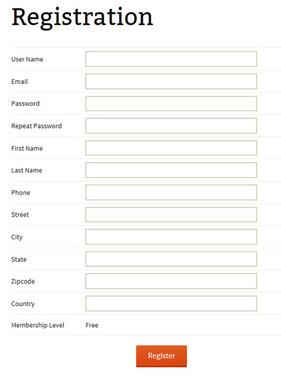button: (133, 344, 190, 368)
field: (84, 271, 258, 290), (83, 228, 258, 246), (84, 250, 259, 268), (85, 50, 259, 68), (84, 117, 258, 135), (84, 161, 258, 179), (84, 294, 258, 312), (84, 139, 257, 157), (84, 183, 257, 201), (84, 206, 257, 224), (84, 73, 258, 90), (84, 95, 257, 112)
field_with_label: (10, 49, 260, 69), (9, 71, 259, 91), (9, 93, 259, 113), (9, 116, 259, 136), (7, 138, 257, 158), (9, 160, 259, 180), (8, 182, 258, 202), (8, 204, 258, 224), (9, 226, 259, 246), (8, 248, 258, 268), (8, 270, 258, 290), (8, 292, 258, 312)
